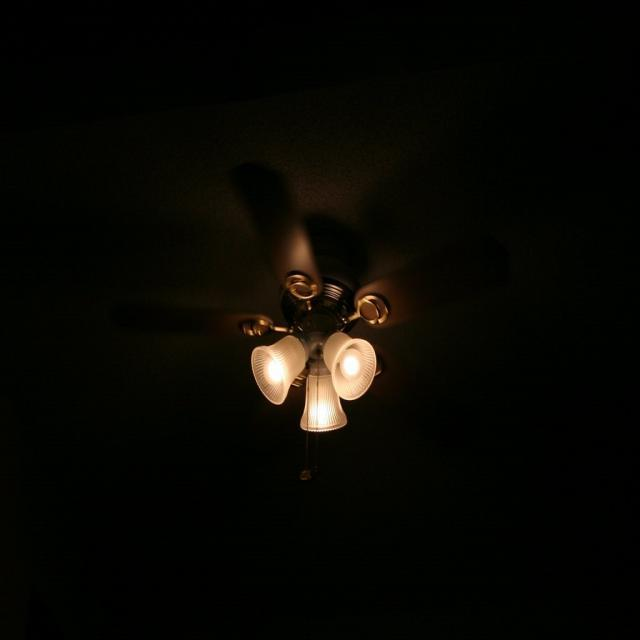bulb_on: (312, 398, 336, 431), (340, 349, 367, 378), (268, 352, 289, 383)
fan_off: (154, 177, 440, 344)
